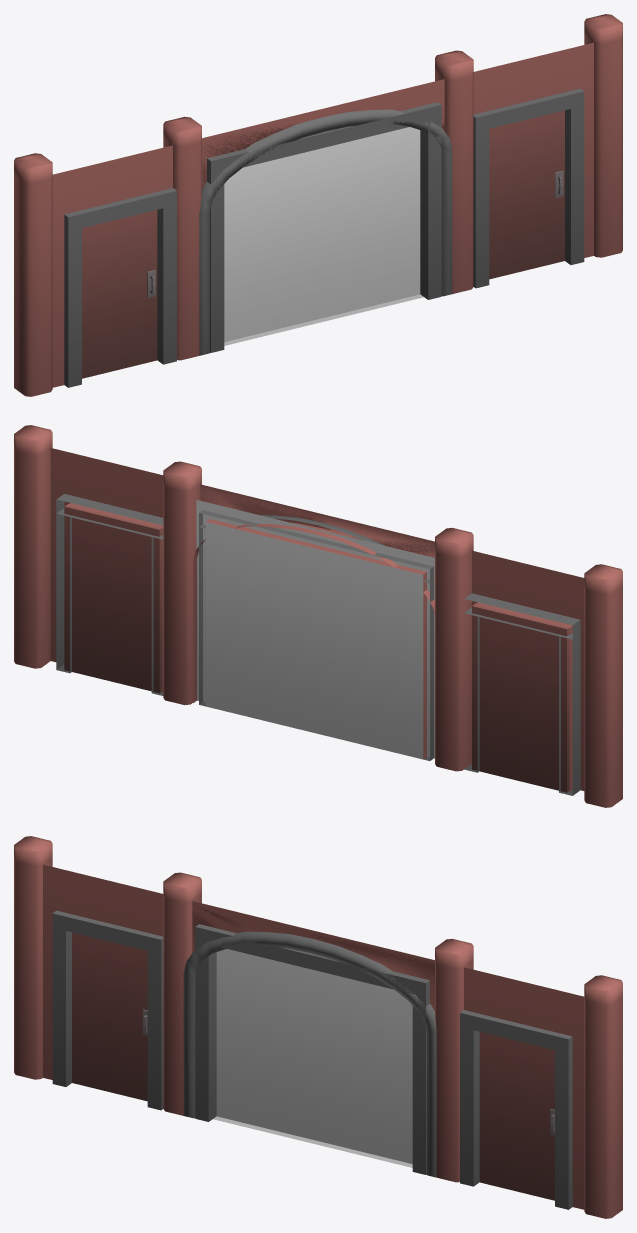
File: west-service-gate.glb
The picture shows the model from 3 angles, top to bottom: view 1: azimuth 30°, elevation 25°; view 2: azimuth 150°, elevation 25°; view 3: azimuth 330°, elevation 25°; orthographic projection.
Visible parts, largest first — view 1: Part_03_IndGarageArchWhite_GarageArchWhite, Part_01_IndDoorFrameSingle_DoorFrameSingle, Part_05_IndDoorFrameSingle_DoorFrameSingle, Part_04_IndGarageWhite_GarageWhite, Part_06_IndDoorSingleRed_DoorSingleRed, Part_02_IndDoorSingleRed_DoorSingleRed, Part_07_IndColumnFree_ColumnFree, Part_13_IndColumnFree_ColumnFree, Part_09_IndColumnFree_ColumnFree, Part_11_IndColumnFree_ColumnFree, Part_08_IndColumnFreeCap_ColumnFreeCap, Part_14_IndColumnFreeCap_ColumnFreeCap (+2 smaller); view 2: Part_04_IndGarageWhite_GarageWhite, Part_06_IndDoorSingleRed_DoorSingleRed, Part_02_IndDoorSingleRed_DoorSingleRed, Part_05_IndDoorFrameSingle_DoorFrameSingle, Part_01_IndDoorFrameSingle_DoorFrameSingle, Part_03_IndGarageArchWhite_GarageArchWhite, Part_07_IndColumnFree_ColumnFree, Part_13_IndColumnFree_ColumnFree, Part_09_IndColumnFree_ColumnFree, Part_11_IndColumnFree_ColumnFree, Part_08_IndColumnFreeCap_ColumnFreeCap, Part_14_IndColumnFreeCap_ColumnFreeCap (+2 smaller); view 3: Part_03_IndGarageArchWhite_GarageArchWhite, Part_05_IndDoorFrameSingle_DoorFrameSingle, Part_01_IndDoorFrameSingle_DoorFrameSingle, Part_04_IndGarageWhite_GarageWhite, Part_02_IndDoorSingleRed_DoorSingleRed, Part_06_IndDoorSingleRed_DoorSingleRed, Part_13_IndColumnFree_ColumnFree, Part_07_IndColumnFree_ColumnFree, Part_11_IndColumnFree_ColumnFree, Part_09_IndColumnFree_ColumnFree, Part_08_IndColumnFreeCap_ColumnFreeCap, Part_14_IndColumnFreeCap_ColumnFreeCap (+2 smaller).
Boxes of the visible parts, x1,y1,x2,y2 form: Part_03_IndGarageArchWhite_GarageArchWhite: (199,108,452,355); Part_01_IndDoorFrameSingle_DoorFrameSingle: (52,145,176,387); Part_05_IndDoorFrameSingle_DoorFrameSingle: (473,42,593,288); Part_04_IndGarageWhite_GarageWhite: (202,79,444,352); Part_06_IndDoorSingleRed_DoorSingleRed: (489,110,564,279); Part_02_IndDoorSingleRed_DoorSingleRed: (82,210,157,378); Part_07_IndColumnFree_ColumnFree: (14,175,52,396); Part_13_IndColumnFree_ColumnFree: (584,35,622,257); Part_09_IndColumnFree_ColumnFree: (163,138,201,360); Part_11_IndColumnFree_ColumnFree: (435,72,473,293); Part_08_IndColumnFreeCap_ColumnFreeCap: (14,153,52,183); Part_14_IndColumnFreeCap_ColumnFreeCap: (584,14,622,44); Part_04_IndGarageWhite_GarageWhite: (199,492,434,760); Part_06_IndDoorSingleRed_DoorSingleRed: (64,504,162,693); Part_02_IndDoorSingleRed_DoorSingleRed: (472,603,569,792); Part_05_IndDoorFrameSingle_DoorFrameSingle: (50,448,163,695); Part_01_IndDoorFrameSingle_DoorFrameSingle: (464,550,584,795); Part_03_IndGarageArchWhite_GarageArchWhite: (193,484,434,758); Part_07_IndColumnFree_ColumnFree: (584,586,622,807); Part_13_IndColumnFree_ColumnFree: (14,446,52,668); Part_09_IndColumnFree_ColumnFree: (435,549,473,771); Part_11_IndColumnFree_ColumnFree: (163,483,201,705); Part_08_IndColumnFreeCap_ColumnFreeCap: (584,564,622,594); Part_14_IndColumnFreeCap_ColumnFreeCap: (14,425,52,455); Part_03_IndGarageArchWhite_GarageArchWhite: (183,905,436,1177); Part_05_IndDoorFrameSingle_DoorFrameSingle: (460,967,584,1209); Part_01_IndDoorFrameSingle_DoorFrameSingle: (43,864,163,1110); Part_04_IndGarageWhite_GarageWhite: (192,901,434,1174); Part_02_IndDoorSingleRed_DoorSingleRed: (72,932,147,1101); Part_06_IndDoorSingleRed_DoorSingleRed: (479,1032,554,1200); Part_13_IndColumnFree_ColumnFree: (584,997,622,1218); Part_07_IndColumnFree_ColumnFree: (14,857,52,1079); Part_11_IndColumnFree_ColumnFree: (435,960,473,1182); Part_09_IndColumnFree_ColumnFree: (163,894,201,1115); Part_08_IndColumnFreeCap_ColumnFreeCap: (14,836,52,866); Part_14_IndColumnFreeCap_ColumnFreeCap: (584,975,622,1005).
Size of the model in its own units: 8.8 by 3.2 by 0.4.
Materials: 14 (14 with a texture image).
